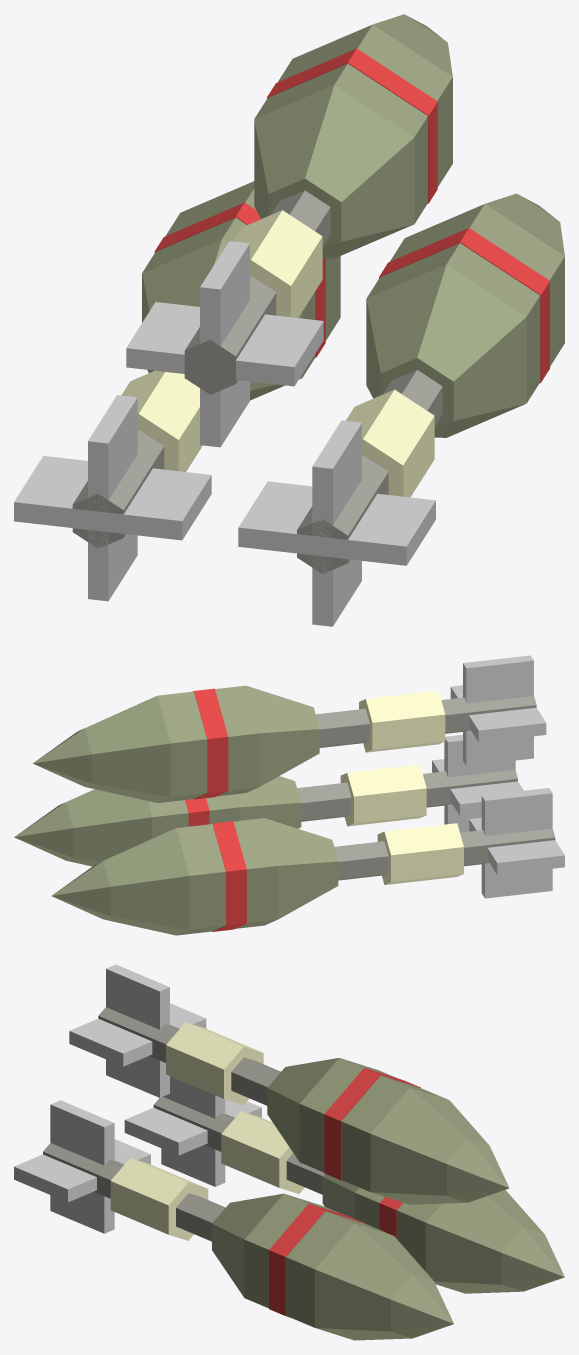
The model's file is ce_ammo_mortar_airburst_b.obj.
3 renders of one model, top to bottom at view 1: azimuth 30°, elevation 25°; view 2: azimuth 150°, elevation 25°; view 3: azimuth 270°, elevation 25°, orthographic. The views are drawn at different scales.
Parts seen in each view (by area): view 1: ce_ammo_mortar_airburst_b_12, ce_ammo_mortar_airburst_b_22, ce_ammo_mortar_airburst_b_18, ce_ammo_mortar_airburst_b_8, ce_ammo_mortar_airburst_b_28, ce_ammo_mortar_airburst_b_19, ce_ammo_mortar_airburst_b_9, ce_ammo_mortar_airburst_b_29, ce_ammo_mortar_airburst_b_21, ce_ammo_mortar_airburst_b_11, ce_ammo_mortar_airburst_b_20, ce_ammo_mortar_airburst_b_25 (+14 smaller); view 2: ce_ammo_mortar_airburst_b_6, ce_ammo_mortar_airburst_b_26, ce_ammo_mortar_airburst_b_16, ce_ammo_mortar_airburst_b_9, ce_ammo_mortar_airburst_b_29, ce_ammo_mortar_airburst_b_22, ce_ammo_mortar_airburst_b_2, ce_ammo_mortar_airburst_b_21, ce_ammo_mortar_airburst_b_1, ce_ammo_mortar_airburst_b_11, ce_ammo_mortar_airburst_b_25, ce_ammo_mortar_airburst_b_5 (+18 smaller); view 3: ce_ammo_mortar_airburst_b_26, ce_ammo_mortar_airburst_b_16, ce_ammo_mortar_airburst_b_6, ce_ammo_mortar_airburst_b_19, ce_ammo_mortar_airburst_b_29, ce_ammo_mortar_airburst_b_11, ce_ammo_mortar_airburst_b_21, ce_ammo_mortar_airburst_b_1, ce_ammo_mortar_airburst_b_25, ce_ammo_mortar_airburst_b_15, ce_ammo_mortar_airburst_b_23, ce_ammo_mortar_airburst_b_13 (+18 smaller).
Boxes of the visible parts, x1=… form: ce_ammo_mortar_airburst_b_12: x1=366, y1=264, x2=526, y2=437; ce_ammo_mortar_airburst_b_22: x1=254, y1=85, x2=414, y2=258; ce_ammo_mortar_airburst_b_18: x1=238, y1=481, x2=435, y2=565; ce_ammo_mortar_airburst_b_8: x1=14, y1=456, x2=211, y2=540; ce_ammo_mortar_airburst_b_28: x1=126, y1=302, x2=323, y2=386; ce_ammo_mortar_airburst_b_19: x1=312, y1=420, x2=361, y2=626; ce_ammo_mortar_airburst_b_9: x1=88, y1=395, x2=137, y2=601; ce_ammo_mortar_airburst_b_29: x1=200, y1=241, x2=249, y2=447; ce_ammo_mortar_airburst_b_21: x1=233, y1=210, x2=322, y2=317; ce_ammo_mortar_airburst_b_11: x1=346, y1=389, x2=434, y2=497; ce_ammo_mortar_airburst_b_20: x1=184, y1=190, x2=330, y2=394; ce_ammo_mortar_airburst_b_25: x1=278, y1=24, x2=452, y2=186; ce_ammo_mortar_airburst_b_6: x1=103, y1=828, x2=189, y2=935; ce_ammo_mortar_airburst_b_26: x1=84, y1=695, x2=170, y2=802; ce_ammo_mortar_airburst_b_16: x1=66, y1=789, x2=152, y2=866; ce_ammo_mortar_airburst_b_9: x1=481, y1=788, x2=552, y2=898; ce_ammo_mortar_airburst_b_29: x1=463, y1=655, x2=533, y2=765; ce_ammo_mortar_airburst_b_22: x1=246, y1=685, x2=319, y2=786; ce_ammo_mortar_airburst_b_2: x1=264, y1=818, x2=338, y2=919; ce_ammo_mortar_airburst_b_21: x1=359, y1=690, x2=445, y2=752; ce_ammo_mortar_airburst_b_1: x1=377, y1=823, x2=463, y2=884; ce_ammo_mortar_airburst_b_11: x1=340, y1=764, x2=426, y2=826; ce_ammo_mortar_airburst_b_25: x1=157, y1=691, x2=207, y2=802; ce_ammo_mortar_airburst_b_5: x1=176, y1=824, x2=225, y2=935; ce_ammo_mortar_airburst_b_26: x1=370, y1=1087, x2=489, y2=1204; ce_ammo_mortar_airburst_b_16: x1=315, y1=1223, x2=433, y2=1340; ce_ammo_mortar_airburst_b_6: x1=425, y1=1190, x2=544, y2=1293; ce_ammo_mortar_airburst_b_19: x1=50, y1=1100, x2=114, y2=1233; ce_ammo_mortar_airburst_b_29: x1=106, y1=964, x2=169, y2=1097; ce_ammo_mortar_airburst_b_11: x1=110, y1=1158, x2=208, y2=1240; ce_ammo_mortar_airburst_b_21: x1=166, y1=1022, x2=263, y2=1104; ce_ammo_mortar_airburst_b_1: x1=221, y1=1111, x2=304, y2=1193; ce_ammo_mortar_airburst_b_25: x1=341, y1=1075, x2=447, y2=1191; ce_ammo_mortar_airburst_b_15: x1=286, y1=1211, x2=392, y2=1327; ce_ammo_mortar_airburst_b_23: x1=299, y1=1058, x2=396, y2=1172; ce_ammo_mortar_airburst_b_13: x1=244, y1=1193, x2=340, y2=1308.
Bounding box in the file's own units: 0.8443 × 0.39 × 0.8443.
